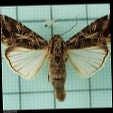Spodoptera litura: (2, 12, 111, 101)
